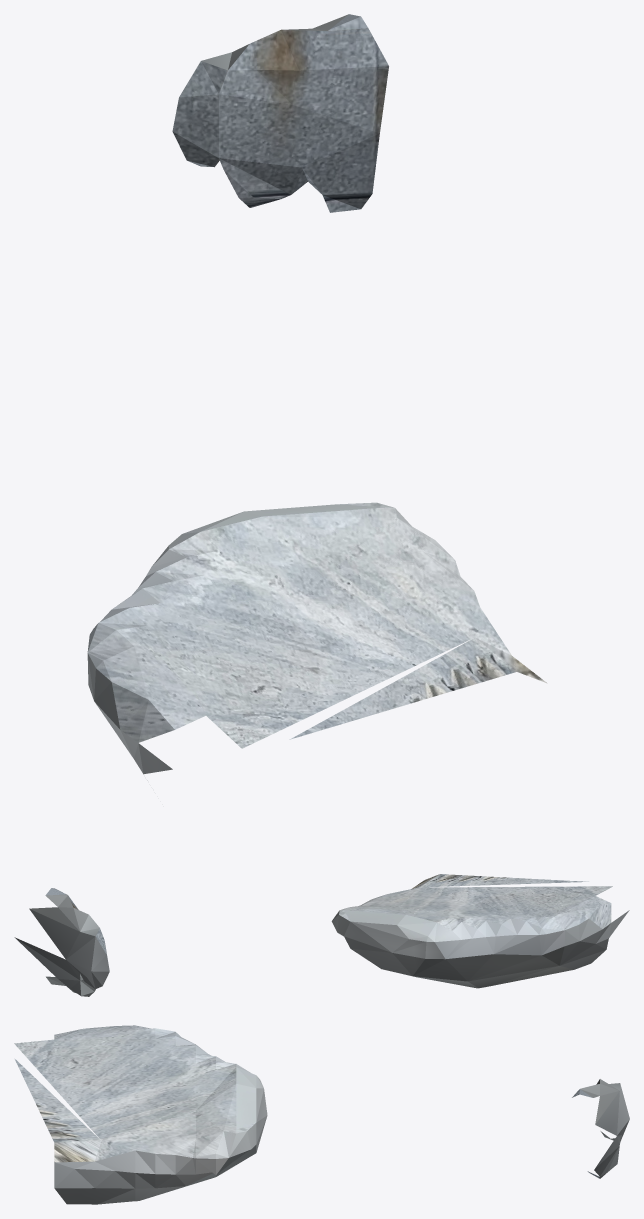
3 views of the same model, one above another, from view 1: azimuth 30°, elevation 25°; view 2: azimuth 150°, elevation 25°; view 3: azimuth 270°, elevation 25° (orthographic). The views are drawn at different scales.
Size of the model in its own units: 3.1 by 1.37 by 4.
Materials: 1 (1 with a texture image).
